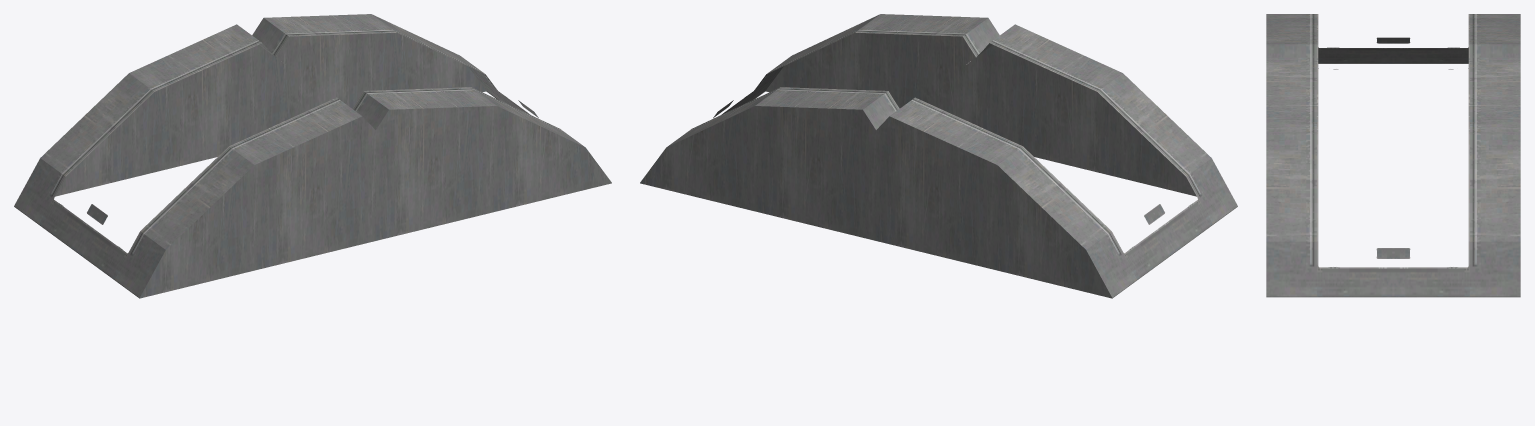
Rendered from frn_all_mdrn_chest_s01_l1.fbx.
3 renders of one model, left to right at view 1: azimuth 30°, elevation 25°; view 2: azimuth 150°, elevation 25°; view 3: azimuth 270°, elevation 25°, orthographic.
Parts seen in each view (by area): view 1: mesh_node; view 2: mesh_node; view 3: mesh_node.
Boxes of the visible parts, x1=… form: mesh_node: x1=14, y1=14, x2=611, y2=298; mesh_node: x1=640, y1=14, x2=1237, y2=298; mesh_node: x1=1266, y1=14, x2=1520, y2=297.
Bounding box in the file's own units: 1.74 × 0.8481 × 0.8.
